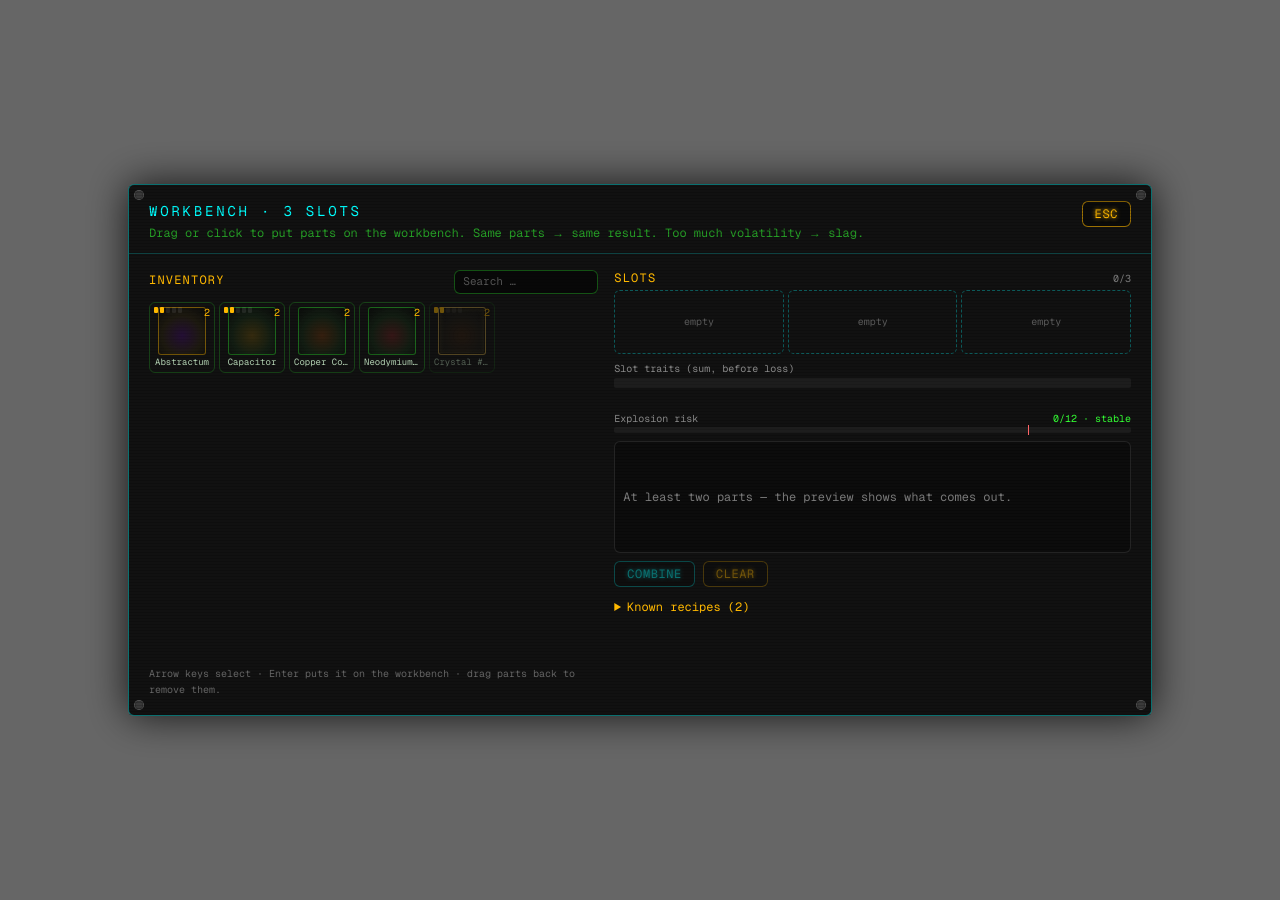
Test: WorkbenchPanel › keyboard: Enter adds, Delete removes, the risk bar shows recipes as safe
Click the button with aria-label "Copper Coil, 2 pcs": (322, 338) x1=289 y1=302 x2=355 y2=374
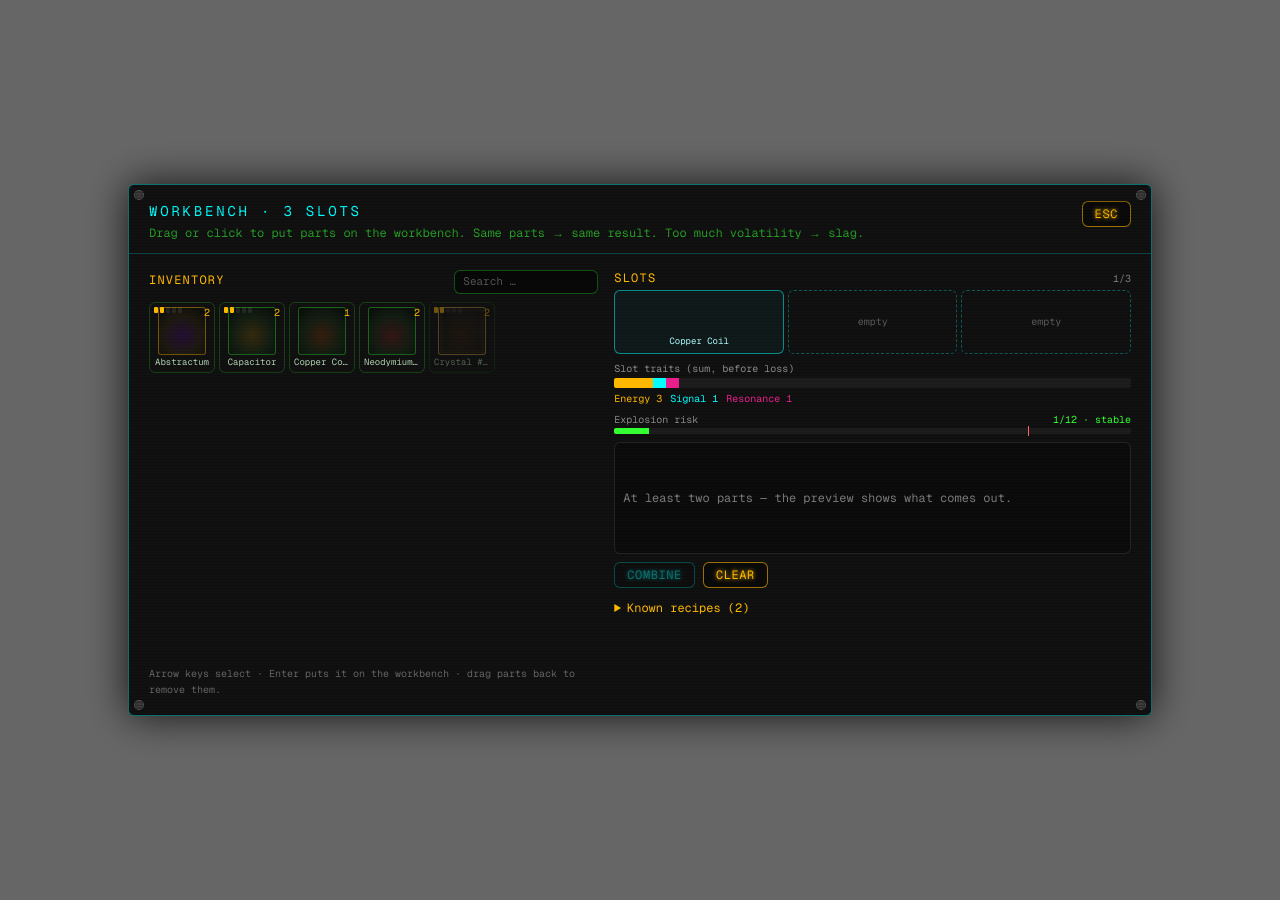
Click the button with aria-label "Neodymium Magnet, 2 pcs": (392, 338) x1=359 y1=302 x2=425 y2=374
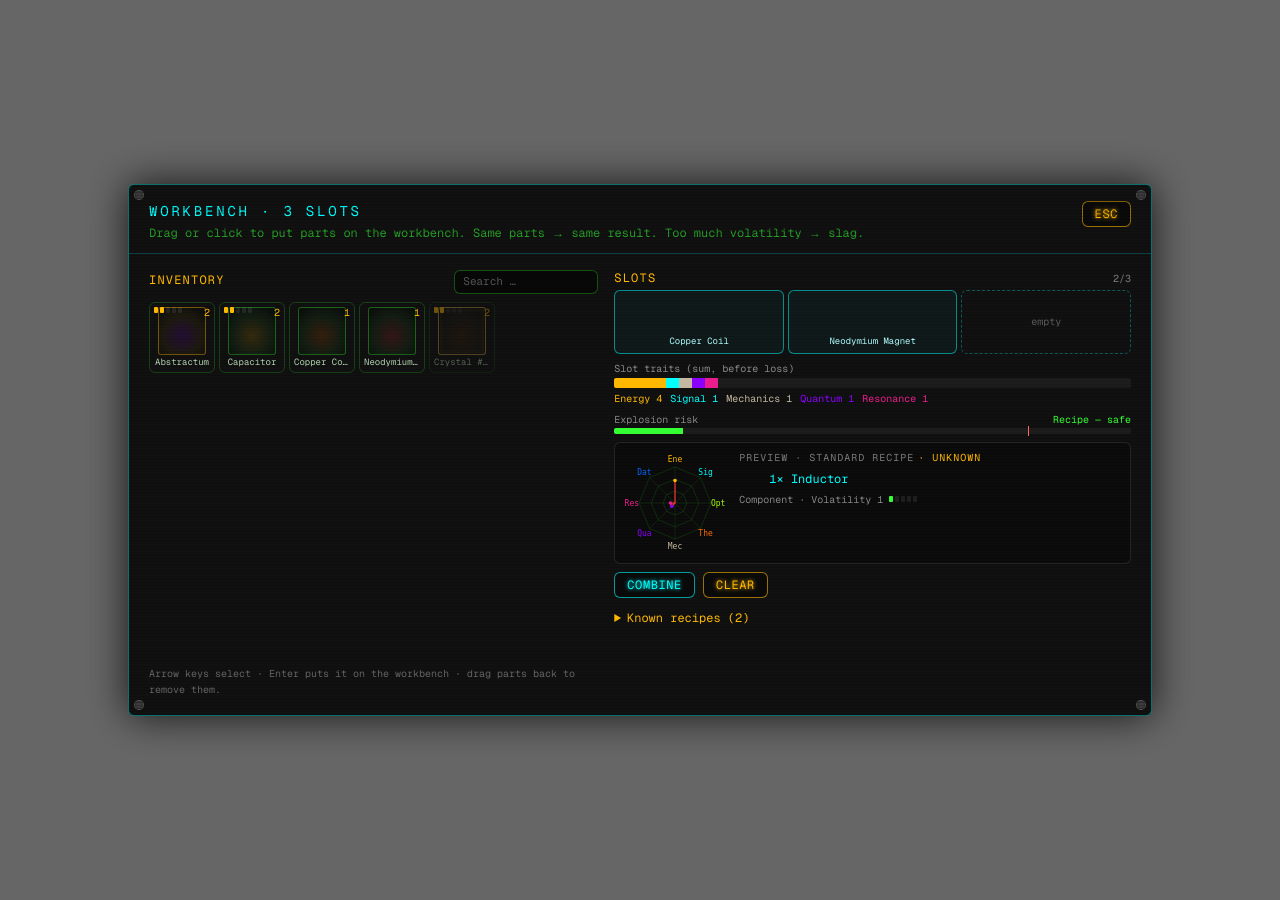
expect the text "Recipe — safe" is shown: met, box x1=1053 y1=413 x2=1131 y2=426
expect the text "Preview · Standard recipe· unknown" is shown: met, box x1=739 y1=451 x2=981 y2=464
Press Delete in the button with aria-label "Slot 2: Neodymium Magnet", box x1=788 y1=290 x2=958 y2=354
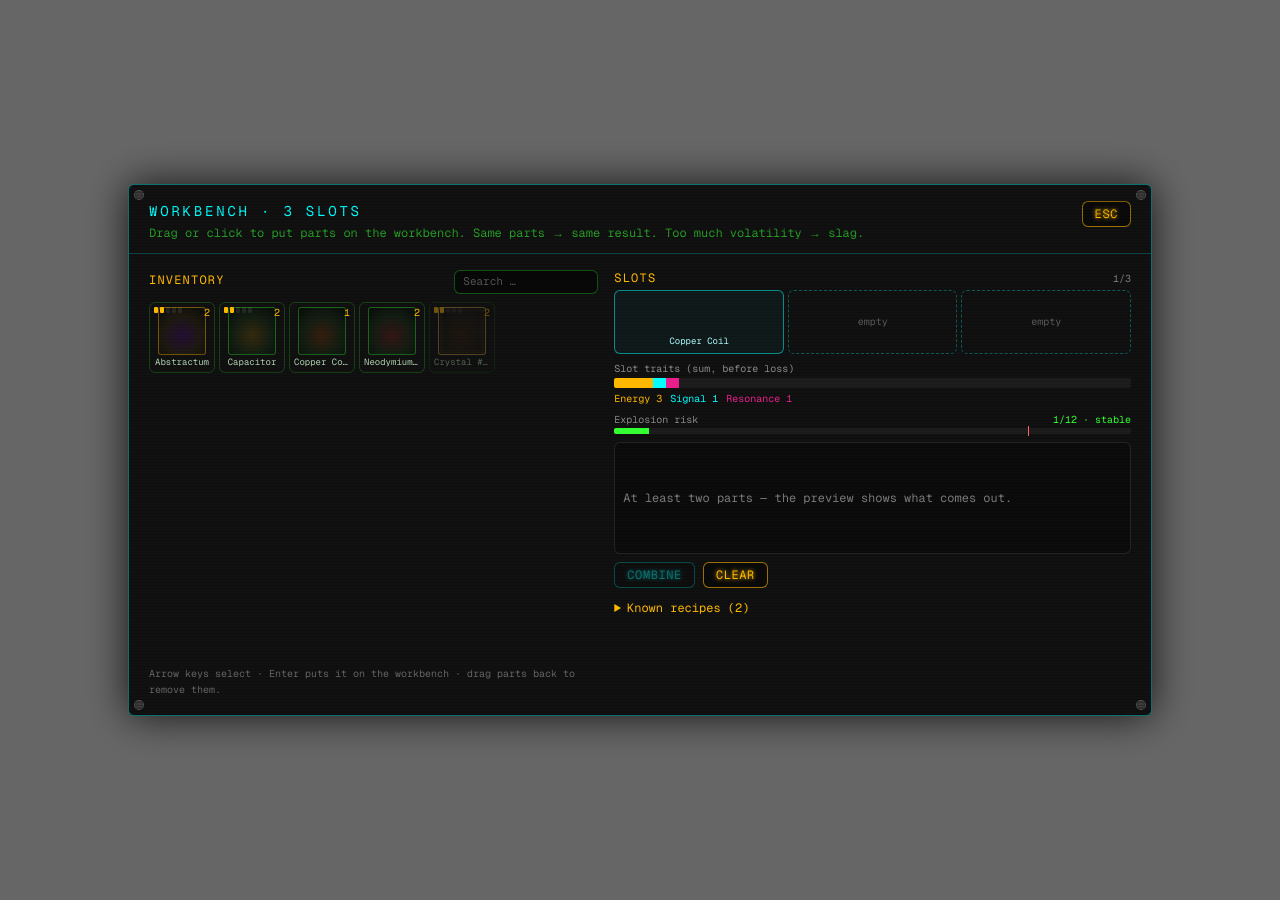
expect the button with aria-label "Slot 2: empty" is shown: met, box x1=788 y1=290 x2=958 y2=354
